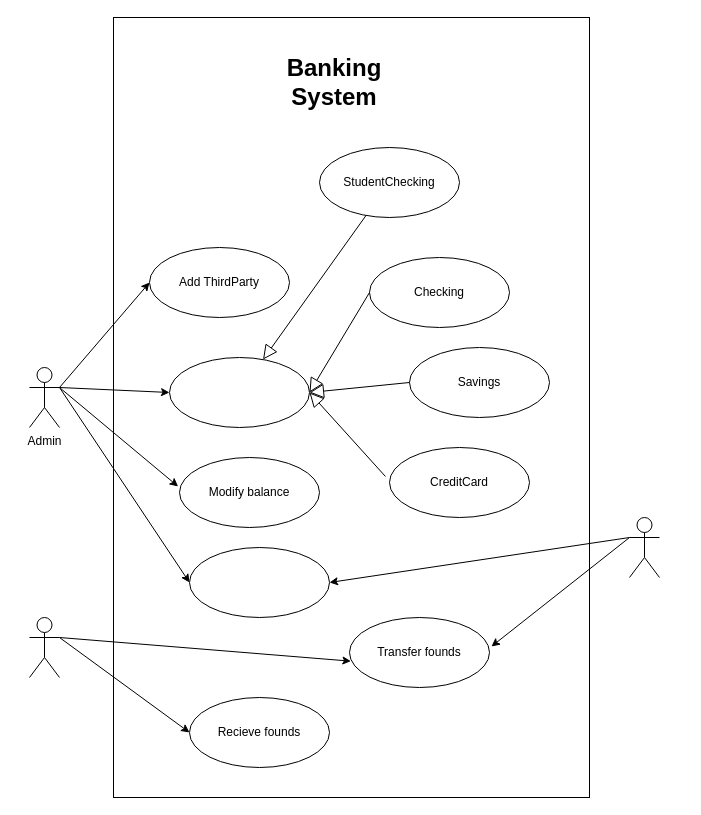
This 701x815 diagram has some shape labels left out. The box of each missing label's shape, as (x1, y1, x2, y2) in pixels:
Acces balance: (188, 546, 330, 618)
AccountHolder: (628, 516, 660, 578)
Create new account: (168, 356, 310, 428)
ThirdParty: (28, 616, 60, 678)
